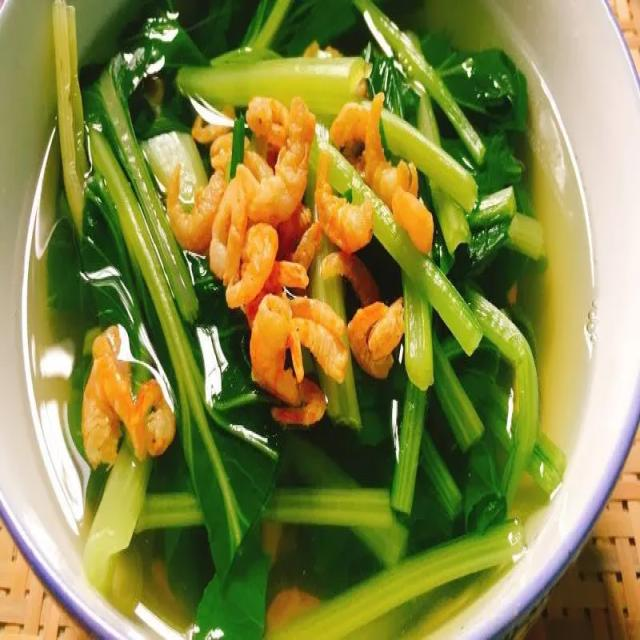canh cai: (28, 0, 587, 639)
